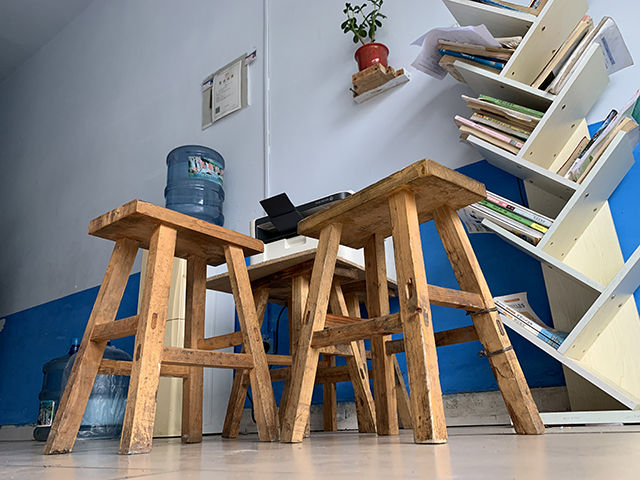stool: (279, 156, 547, 445), (40, 198, 286, 456), (219, 259, 379, 440), (281, 278, 413, 430)
